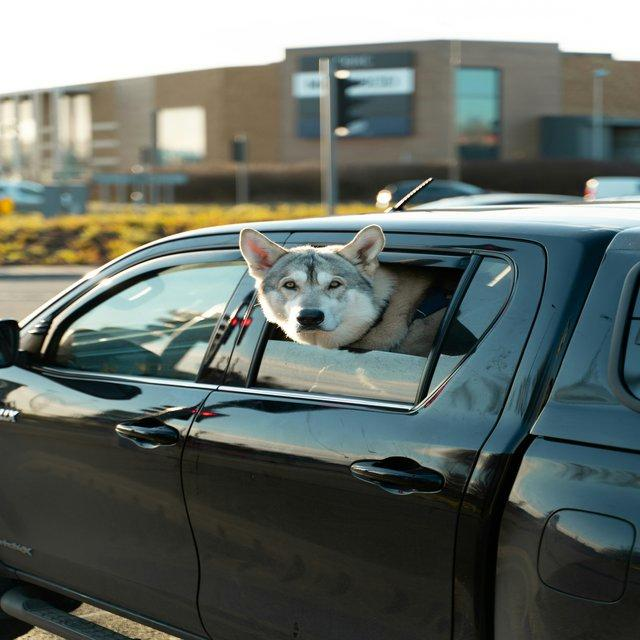husky: (237, 222, 469, 356)
